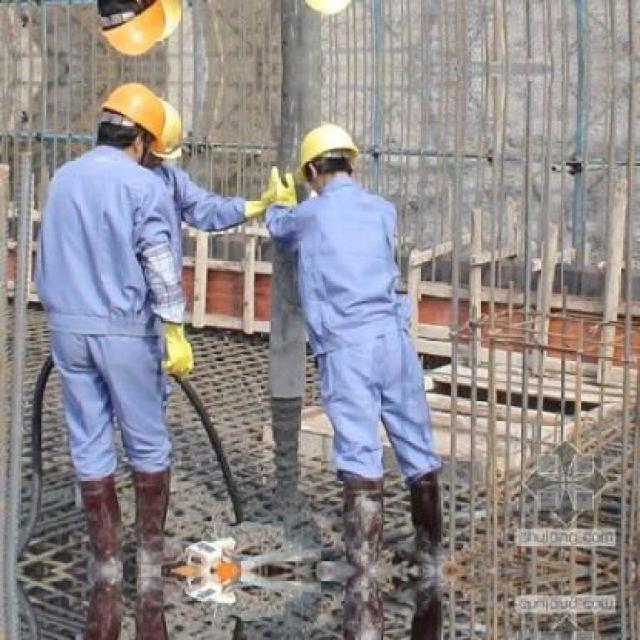helmet: (90, 78, 164, 164), (290, 118, 364, 196), (90, 0, 166, 58), (144, 98, 184, 176), (144, 0, 186, 38), (290, 0, 366, 18)
